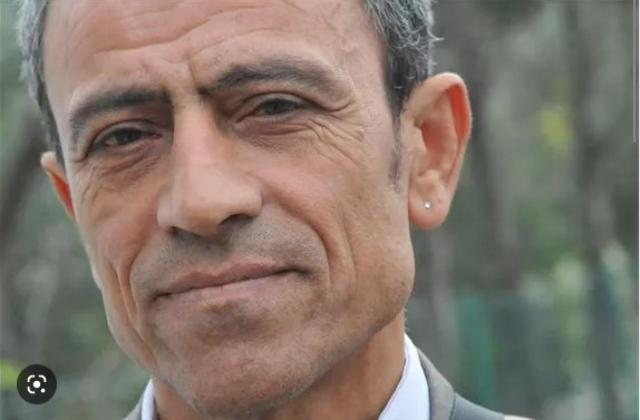crows_feet: (319, 98, 353, 132), (68, 150, 90, 176)
forehead: (114, 30, 190, 54), (198, 0, 250, 20)
frown_line: (179, 54, 203, 86)
gummy_smile: (300, 213, 336, 267), (118, 256, 142, 302)
